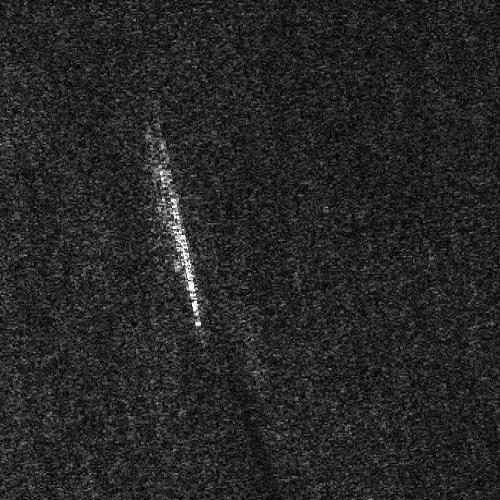ship: (168, 192, 202, 332)
